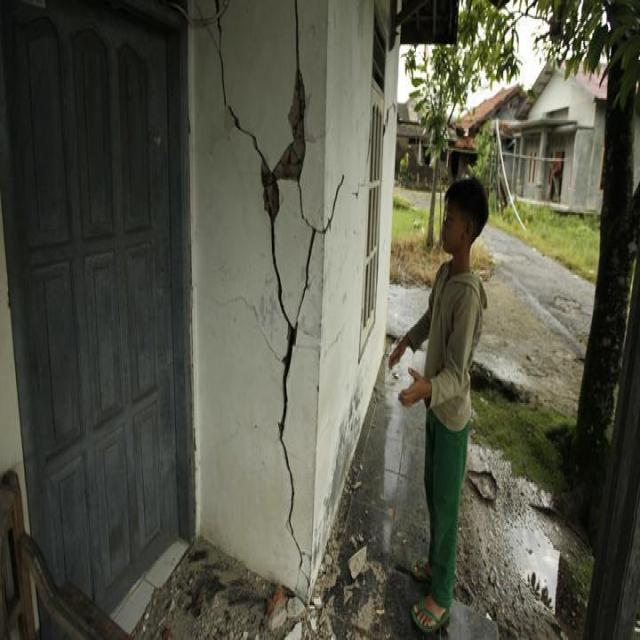crack: (214, 0, 347, 563)
